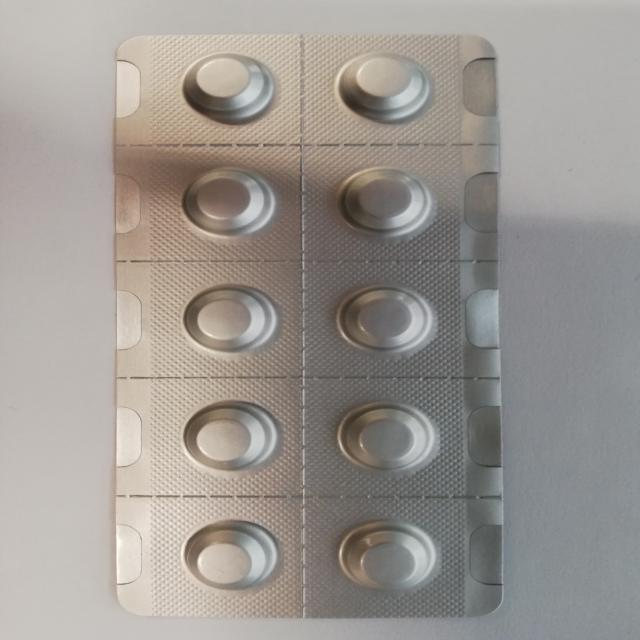Pill: (330, 401, 450, 478), (332, 516, 448, 594), (326, 49, 443, 125), (174, 399, 283, 479), (176, 278, 285, 357), (178, 516, 287, 594), (174, 48, 282, 126), (178, 161, 276, 239), (333, 282, 439, 354), (326, 164, 430, 236)
